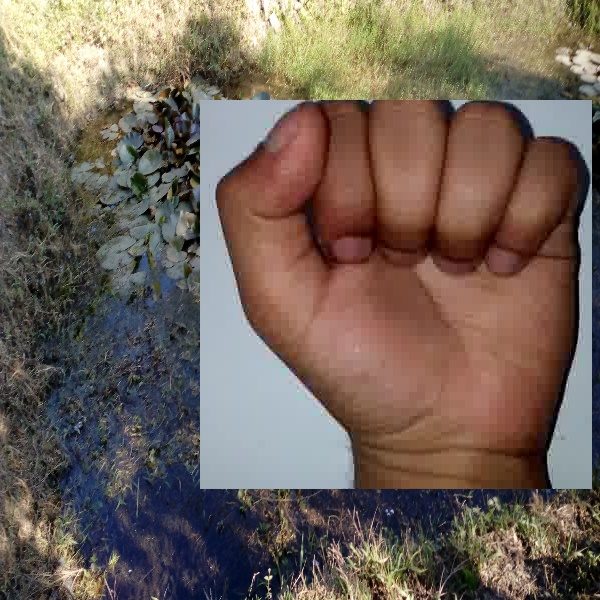A: (200, 100, 592, 489)
